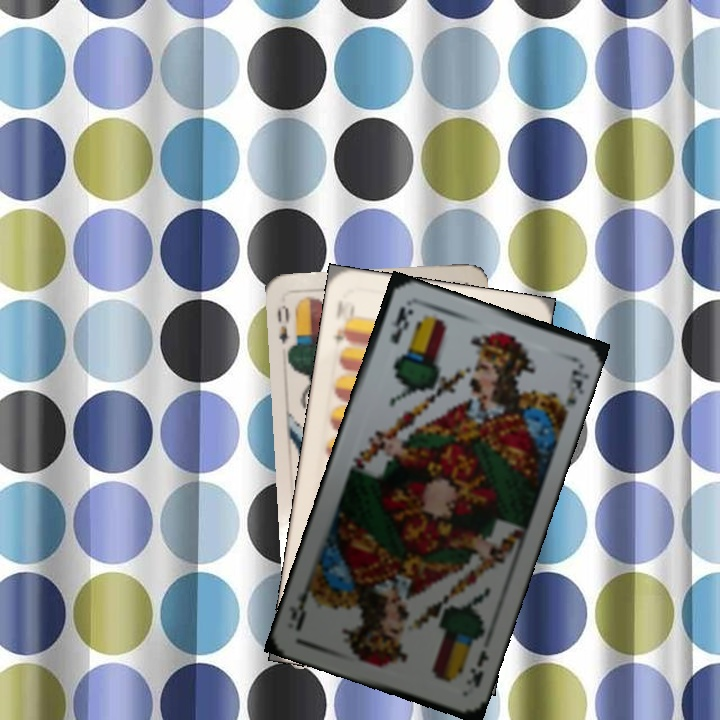E10: (330, 311, 352, 348)
EK: (386, 302, 416, 347), (466, 646, 492, 691)
EO: (273, 301, 300, 355)
